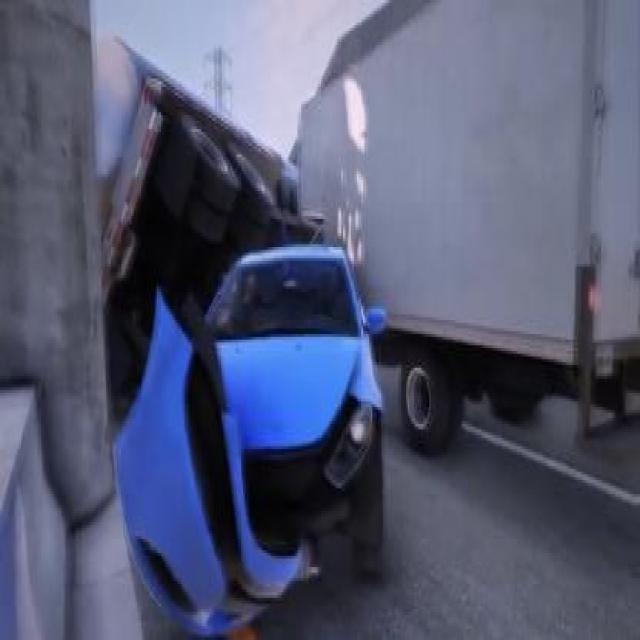accident: (54, 0, 638, 626)
